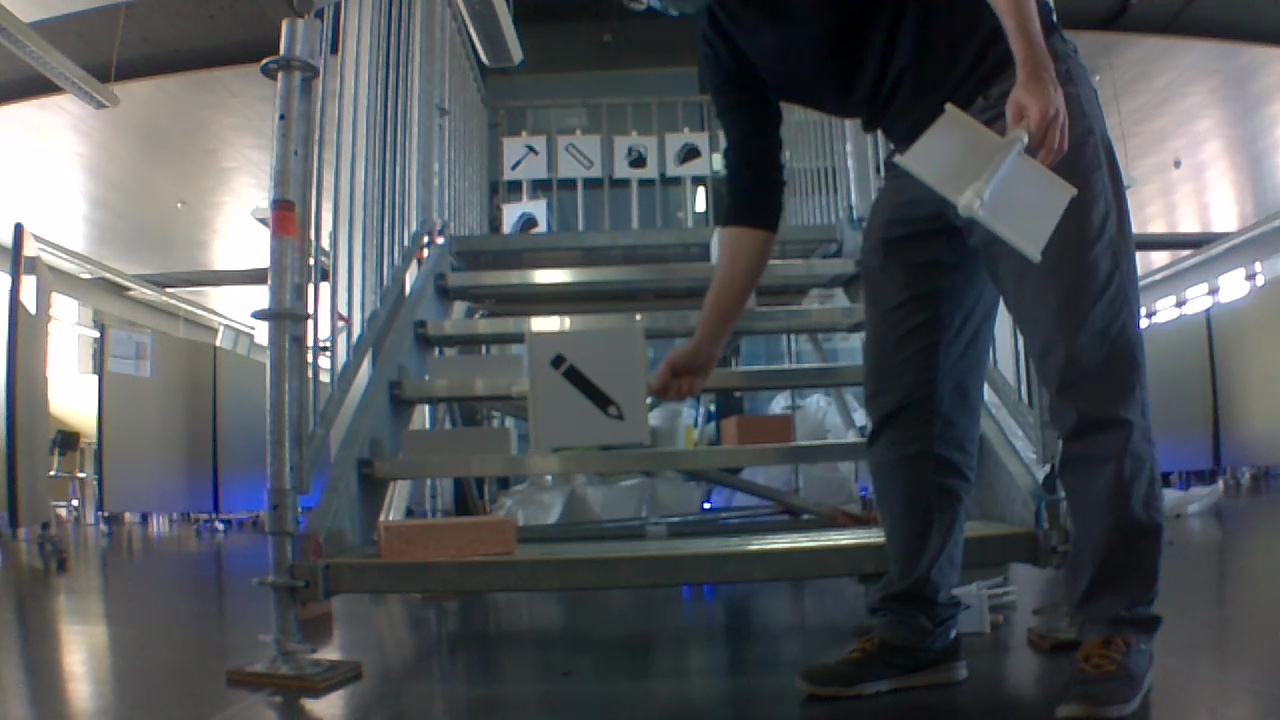brick: (371, 508, 515, 558), (397, 428, 513, 464), (721, 413, 796, 449), (431, 354, 527, 379)
bucket: (622, 141, 652, 170)
edge: (316, 538, 883, 595), (358, 438, 868, 482)
hammer: (507, 143, 540, 173)
pencil: (548, 347, 628, 427)
ruler: (565, 141, 600, 172)
taco: (672, 141, 703, 167), (510, 212, 539, 234)
